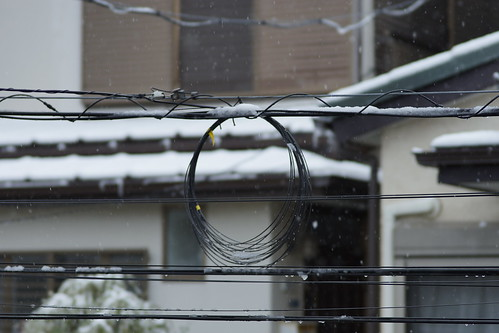building: (1, 143, 336, 333), (344, 50, 499, 330), (16, 1, 396, 99)
power wires: (6, 86, 499, 333)
